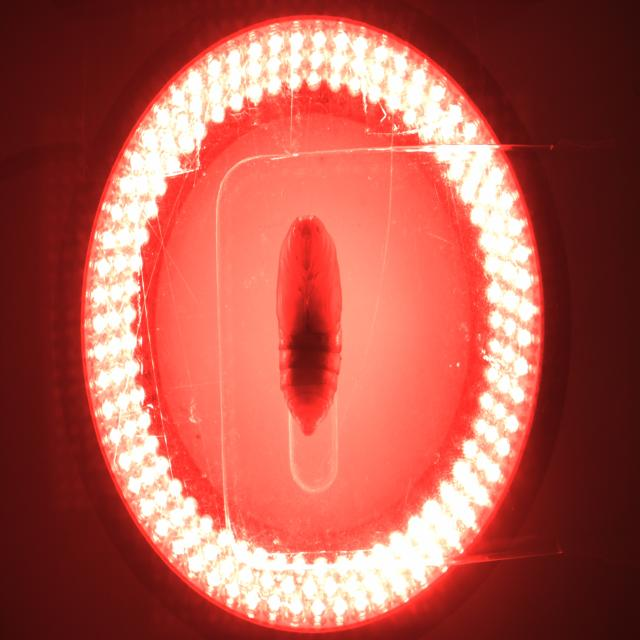female: (306, 417, 310, 422)
